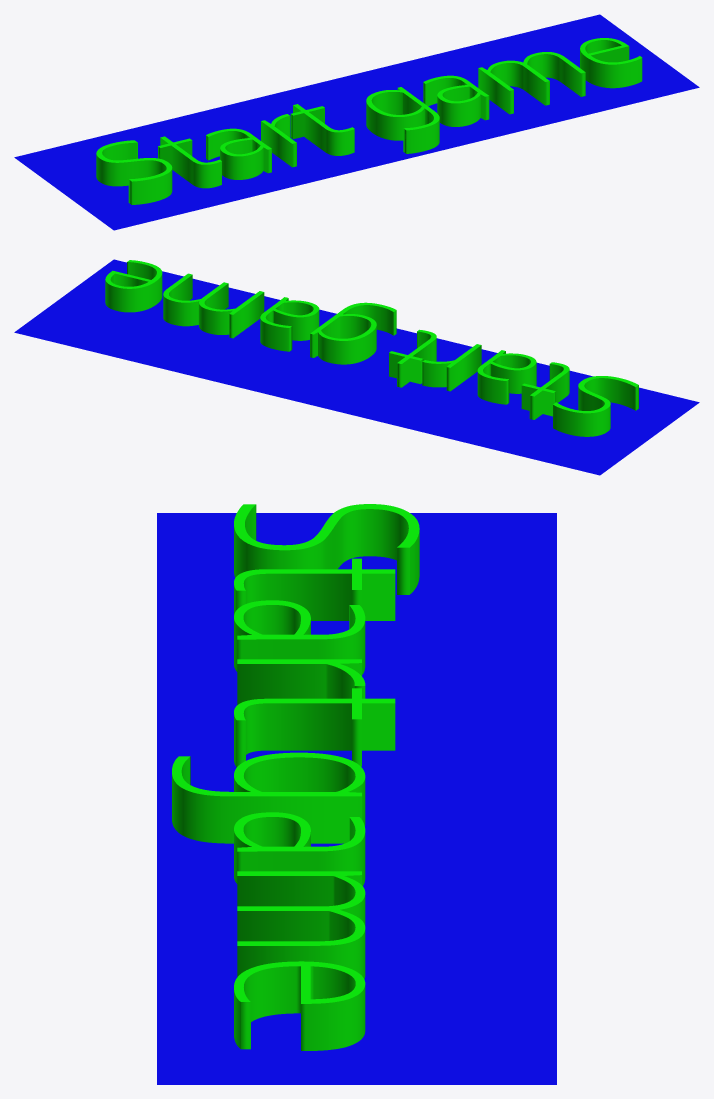
File: start-game.glb
The picture shows the model from 3 angles, top to bottom: view 1: azimuth 30°, elevation 25°; view 2: azimuth 150°, elevation 25°; view 3: azimuth 270°, elevation 25°; orthographic projection. The views are drawn at different scales.
Visible parts, largest first — view 1: Plane, Text; view 2: Plane, Text; view 3: Plane, Text.
Part boxes in pixels (x1,y1,x2,y2): Plane: [14, 14, 699, 230]; Text: [96, 38, 642, 204]; Plane: [14, 259, 699, 475]; Text: [105, 260, 638, 436]; Plane: [157, 513, 556, 1084]; Text: [172, 504, 419, 1050].
Size of the model in its own units: 2.6 by 0.1 by 0.768.
